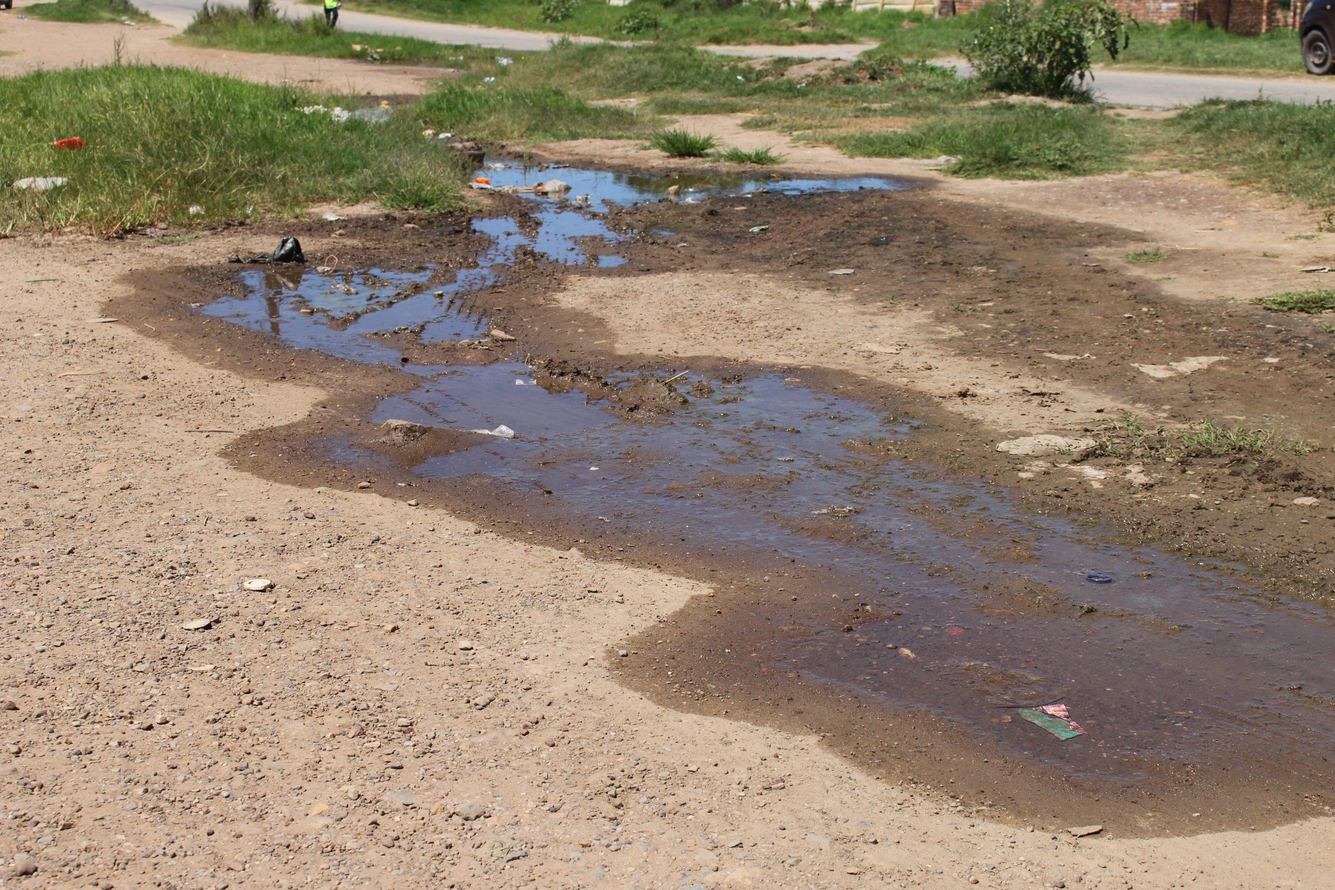water_leak: (188, 158, 1332, 620)
